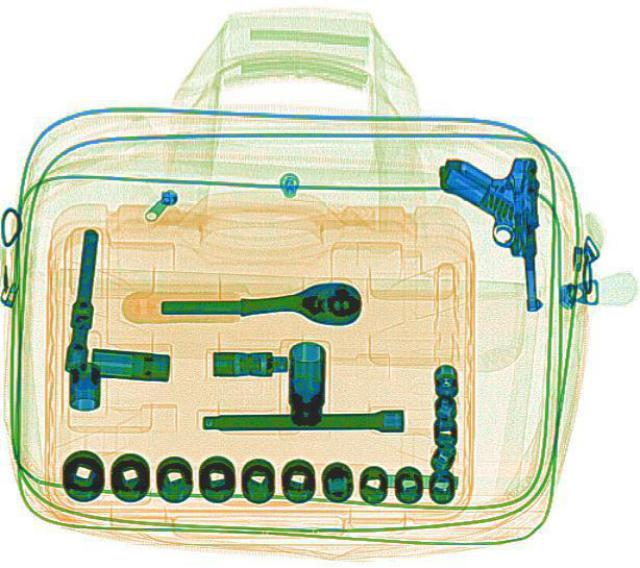Gun: (436, 154, 540, 310)
